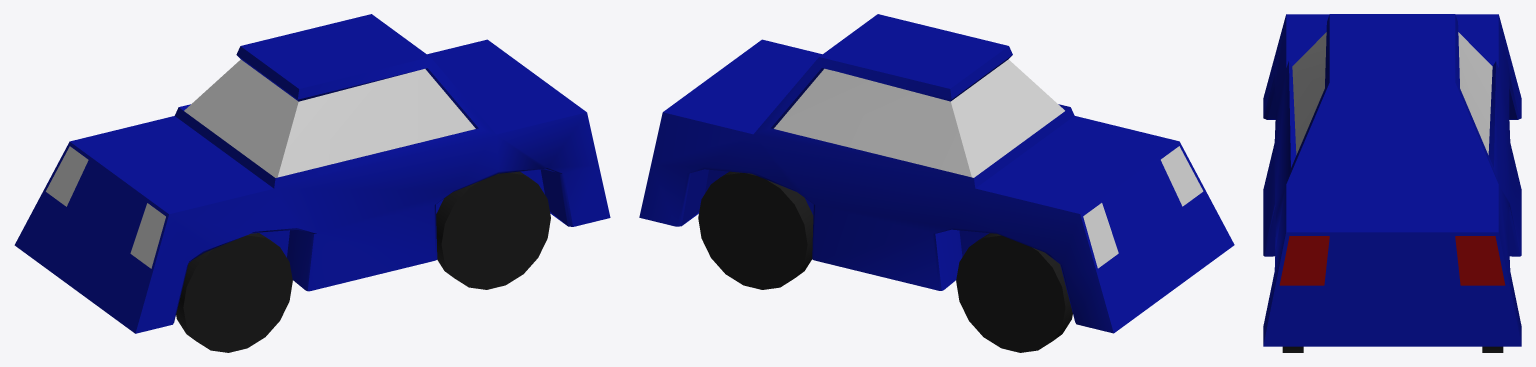
File: Voiture.FBX
3 views of the same model, side by side, from view 1: azimuth 30°, elevation 25°; view 2: azimuth 150°, elevation 25°; view 3: azimuth 270°, elevation 25° (orthographic). The views are drawn at different scales.
Parts seen in each view (by area): view 1: Box006; view 2: Box006; view 3: Box006.
Part boxes in pixels (x1,y1,x2,y2): Box006: [14, 14, 610, 352]; Box006: [639, 14, 1234, 352]; Box006: [1263, 14, 1521, 352].
Size of the model in its own units: 54.67 by 24.77 by 24.11.
